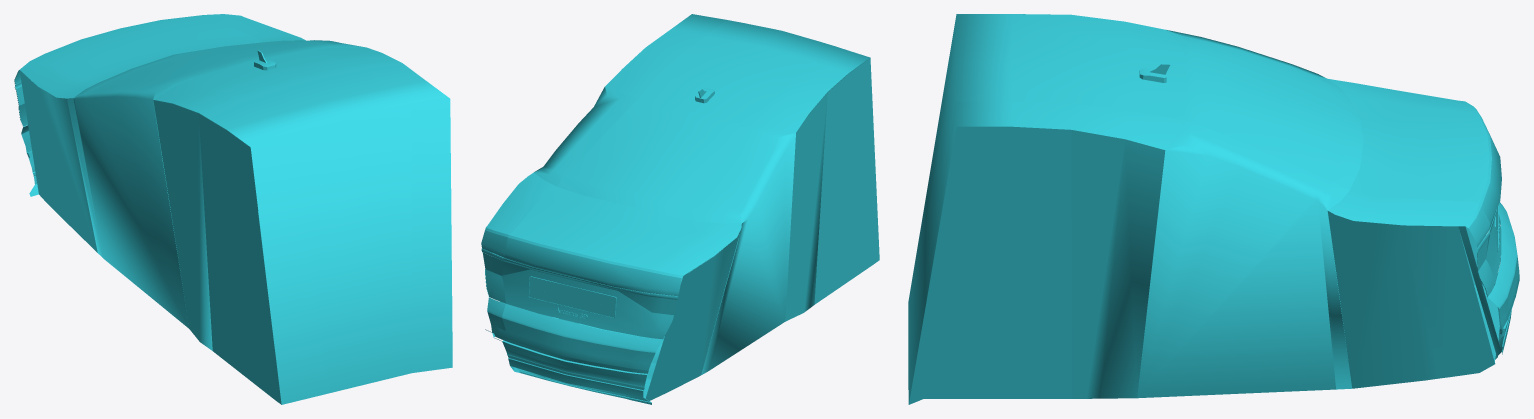
Rendered from luxury-car-2-back.glb.
3 views of the same model, side by side, from view 1: azimuth 30°, elevation 25°; view 2: azimuth 150°, elevation 25°; view 3: azimuth 270°, elevation 25° (orthographic). The views are drawn at different scales.
Parts seen in each view (by area): view 1: Back; view 2: Back; view 3: Back.
Boxes of the visible parts, box(x1,y1,x2,y2) form: Back: box(14, 14, 452, 404); Back: box(481, 14, 879, 404); Back: box(908, 14, 1519, 404).
Bounding box in the file's own units: 1.36 × 1.35 × 2.54.
